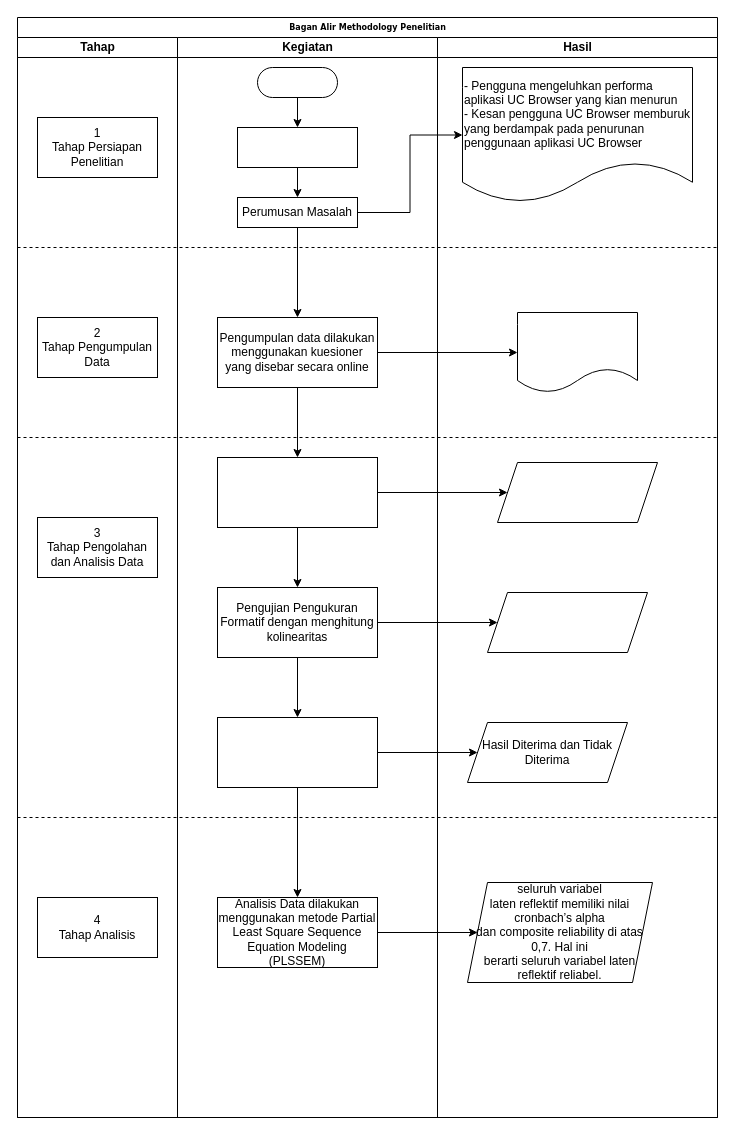
Image size: 736x1135. Some labels were removed from this diagram. The shapes that lost their labels are listed below. From the top down, each one's box as (x1, y1, x2, y2) in pixels, then its label:
(256, 66, 338, 98): Mulai
(236, 126, 358, 168): Identifikasi topik penelitian
(516, 312, 638, 392): Lembar Kuesioner
(216, 456, 378, 528): Uji Data Kuesioner: 1. Uji Validitas 2. Uji Reabilitas
(496, 462, 658, 522): Seluruh Variabel Laten Reflektif Reliable
(486, 592, 648, 652): Tidak terindikasi kolinearitas
(216, 716, 378, 788): Pengujian Model Struktural
